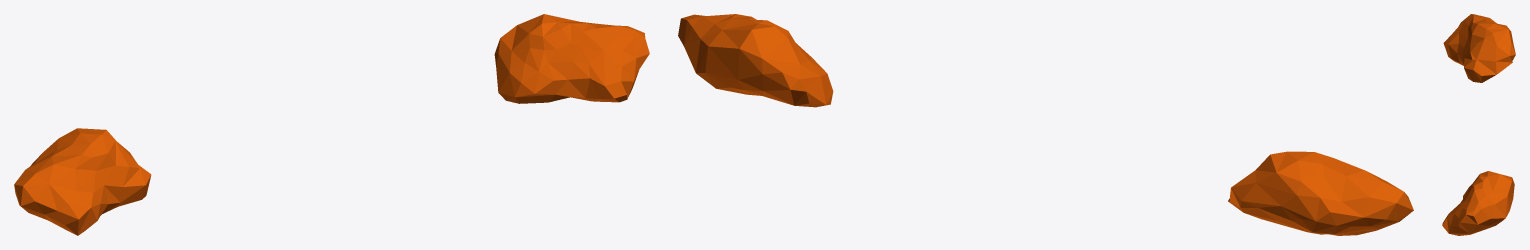
Rendered from 210-SI-substantia innominata-('1.0000', '0.4196', '0.0000').obj.
The picture shows the model from 3 angles, left to right: view 1: azimuth 30°, elevation 25°; view 2: azimuth 150°, elevation 25°; view 3: azimuth 270°, elevation 25°; orthographic projection. The views are drawn at different scales.
Bounding box in the file's own units: 150 × 17.33 × 22.97.
